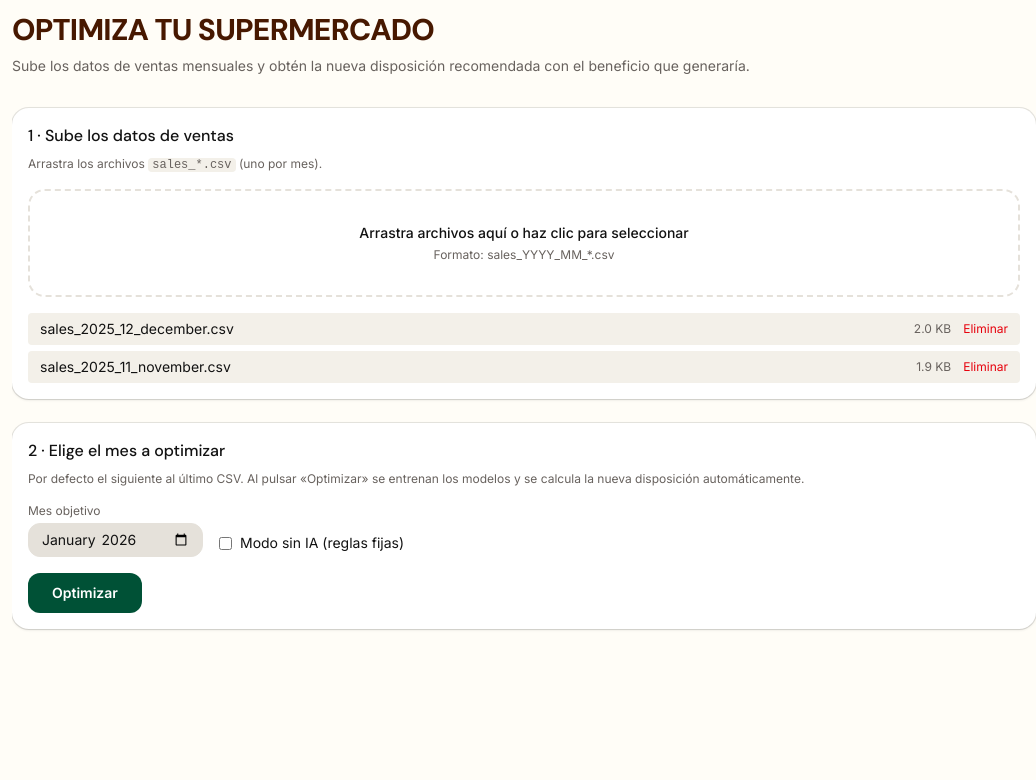
Test: HomePage › shows error on failed done event
The width and height of the screenshot is (1036, 780).
Expected: the text "sales_2025_12_december.csv" is shown, [40,319,234,339]
Click the button "Optimizar" at x=85, y=593, box [28,573,142,613]
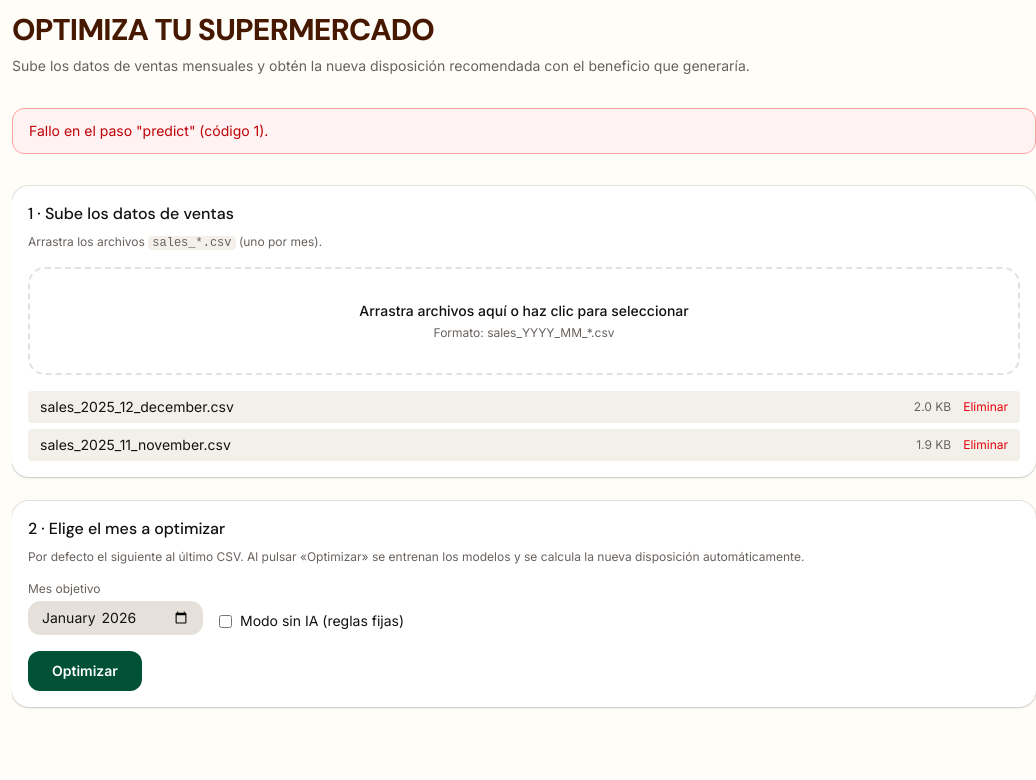
Now the text "Fallo en el paso \"predict\" (código 1)." is shown, box [12,108,1035,154]
